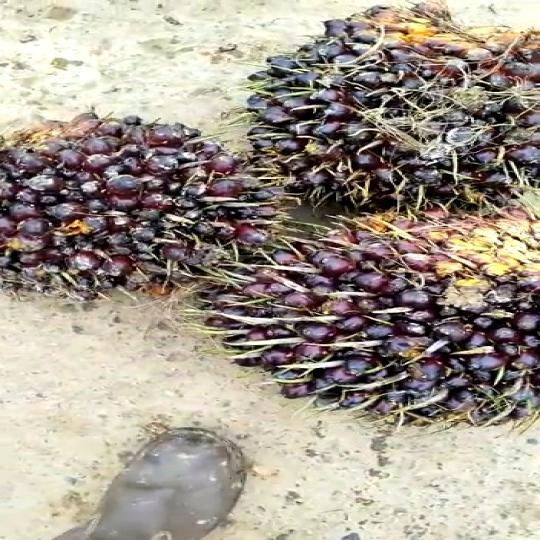kurang masak: (178, 215, 540, 424), (234, 0, 540, 212), (0, 117, 293, 297)
